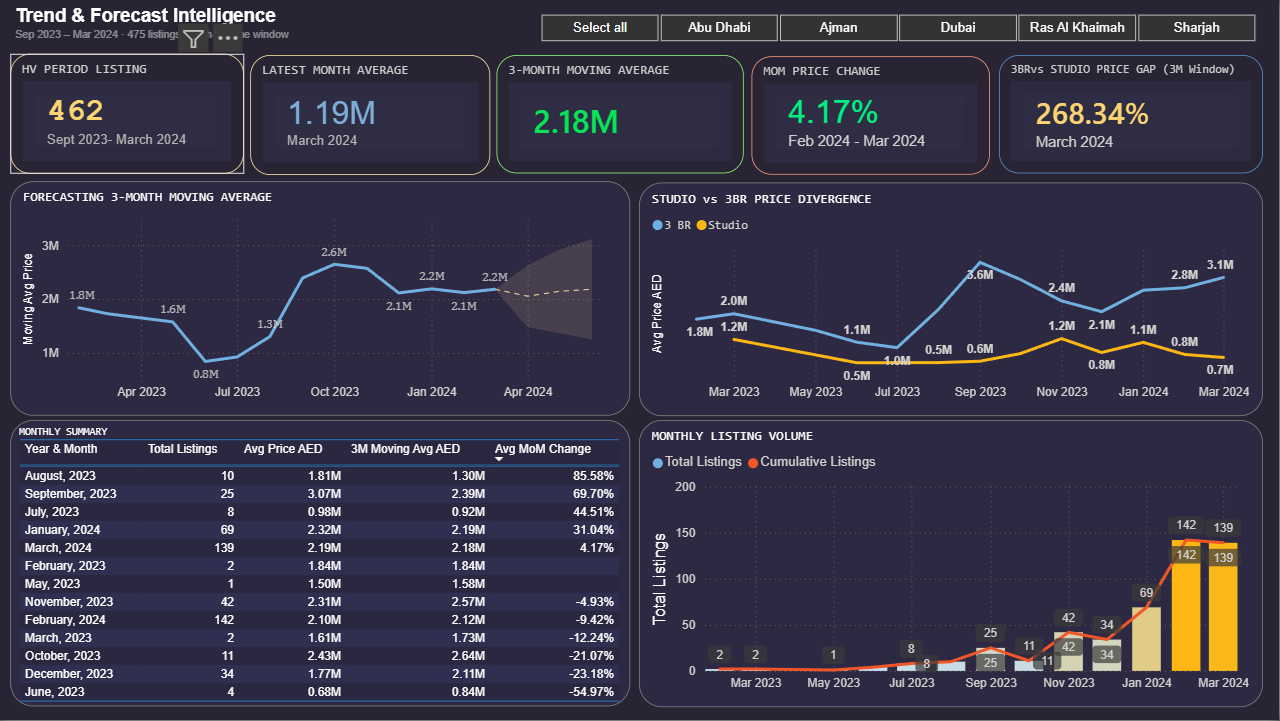

The page's visual inventory and layout, read from the dashboard file:
{"tool":"powerbi","page":{"name":"TREND","canvas":[1280,720],"ordinal":3},"visuals":[{"type":"textbox","box":[11.4,0,528.6,52.9],"z":0},{"type":"cardVisual","title":"HV PERIOD LISTING","fields":{"Data":["uae_property_db vw_listings_detail.HV Period Listings"]},"box":[11.2,53.8,233.8,120],"z":1000},{"type":"lineChart","title":"FORECASTING  3-MONTH MOVING AVERAGE","fields":{"Category":["uae_property_db vw_listings_detail.year__month"],"Y":["uae_property_db vw_listings_detail.3M Moving Avg Price"]},"box":[11.1,181.6,620,234.7],"z":2000},{"type":"lineChart","title":"STUDIO vs 3BR PRICE DIVERGENCE","fields":{"Y":["uae_property_db vw_listings_detail.Avg Price AED"],"Category":["uae_property_db vw_listings_detail.year__month.Variation.Date Hierarchy.Year"],"Series":["uae_property_db vw_listings_detail.bedroom_category"]},"box":[640,182.6,623.7,233.7],"z":3000},{"type":"lineClusteredColumnComboChart","title":"MONTHLY LISTING VOLUME","fields":{"Y":["uae_property_db vw_listings_detail.Total Listings"],"Y2":["uae_property_db vw_listings_detail.Cumulative Listings"],"Category":["uae_property_db vw_listings_detail.year__month.Variation.Date Hierarchy.Year"]},"box":[640,420.5,623.7,286.8],"z":4000},{"type":"tableEx","title":"MONTHLY SUMMARY","fields":{"Values":["uae_property_db vw_listings_detail.year__month.Variation.Date Hierarchy.Year","uae_property_db vw_listings_detail.Total Listings","uae_property_db vw_listings_detail.Avg Price AED","uae_property_db vw_listings_detail.3M Moving Avg Price","uae_property_db vw_listings_detail.Avg Price MoM %"]},"box":[11.1,420.5,620,286.3],"z":5000},{"type":"cardVisual","title":"LATEST MONTH AVERAGE","fields":{"Data":["uae_property_db vw_listings_detail.Latest Month Avg Price"]},"box":[251.2,54.4,240,120],"z":6000},{"type":"cardVisual","title":"3-MONTH MOVING AVERAGE","fields":{"Data":["uae_property_db vw_listings_detail.MA3 Avg Price"]},"box":[497.5,55,247.5,118.8],"z":7000},{"type":"cardVisual","title":"MOM PRICE CHANGE","fields":{"Data":["uae_property_db vw_listings_detail.Price MoM Change"]},"box":[751.9,55.6,238.8,118.8],"z":8000},{"type":"cardVisual","title":"3BRvs STUDIO PRICE GAP (3M Window)","fields":{"Data":["uae_property_db vw_listings_detail.Studio 3BR Gap"]},"box":[999.4,55,264.4,118.8],"z":9000},{"type":"slicer","fields":{"Values":["uae_property_db vw_listings_detail.city"]},"box":[515.7,7.1,764.3,38.6],"z":10000}]}

Visuals, with their boxes in screenshot pixels (x1, y1, x2, y2), scaled from the page's 1280x720 canvas onto the 1280x721 screenshot:
textbox: region(11, 0, 540, 53)
"HV PERIOD LISTING" cardVisual: region(11, 54, 245, 174)
"FORECASTING  3-MONTH MOVING AVERAGE" lineChart: region(11, 182, 631, 417)
"STUDIO vs 3BR PRICE DIVERGENCE" lineChart: region(640, 183, 1264, 417)
"MONTHLY LISTING VOLUME" lineClusteredColumnComboChart: region(640, 421, 1264, 708)
"MONTHLY SUMMARY" tableEx: region(11, 421, 631, 708)
"LATEST MONTH AVERAGE" cardVisual: region(251, 54, 491, 175)
"3-MONTH MOVING AVERAGE" cardVisual: region(498, 55, 745, 174)
"MOM PRICE CHANGE" cardVisual: region(752, 56, 991, 175)
"3BRvs STUDIO PRICE GAP (3M Window)" cardVisual: region(999, 55, 1264, 174)
slicer - uae_property_db vw_listings_detail.city: region(516, 7, 1279, 46)
